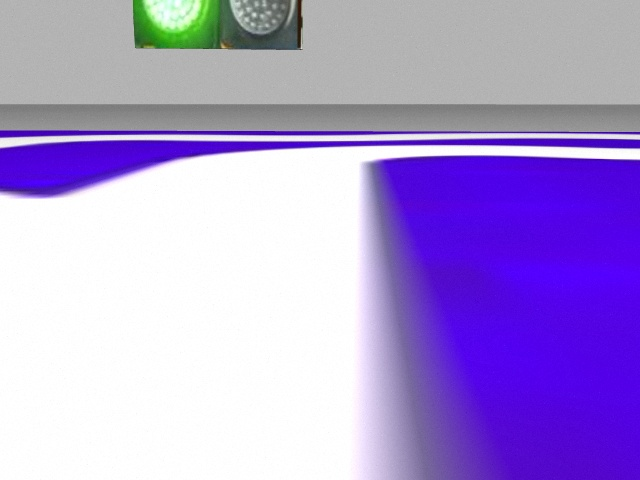green: (134, 2, 221, 48)
